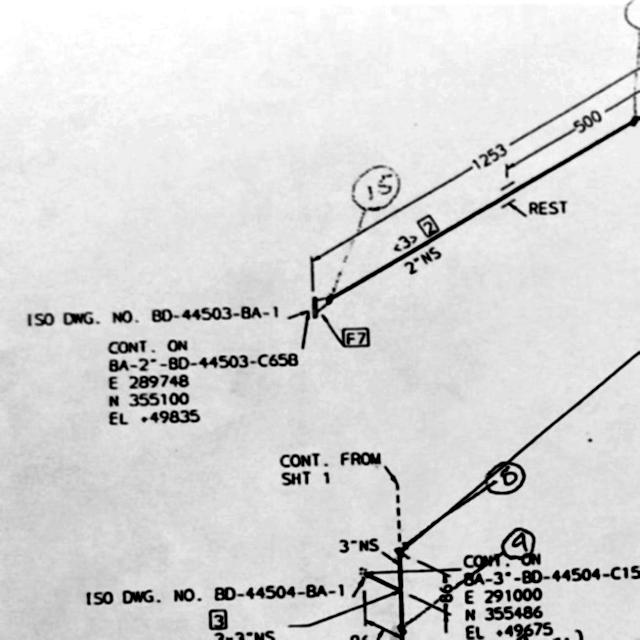Item number: (339, 325, 372, 350), (414, 211, 441, 239), (211, 604, 233, 630)
Measrement: (310, 54, 639, 279), (502, 77, 639, 186), (420, 556, 462, 636), (398, 242, 448, 281), (335, 534, 383, 556)
Pipeline: (333, 102, 639, 306)
Symbol: (354, 544, 422, 635), (308, 293, 335, 322)
Weld number: (348, 160, 406, 215), (485, 457, 530, 500), (497, 523, 541, 565), (621, 0, 639, 31)
other: (459, 531, 638, 639), (105, 337, 306, 429), (25, 297, 303, 327), (273, 440, 387, 491), (206, 575, 347, 604), (526, 199, 572, 218), (211, 627, 278, 639)
